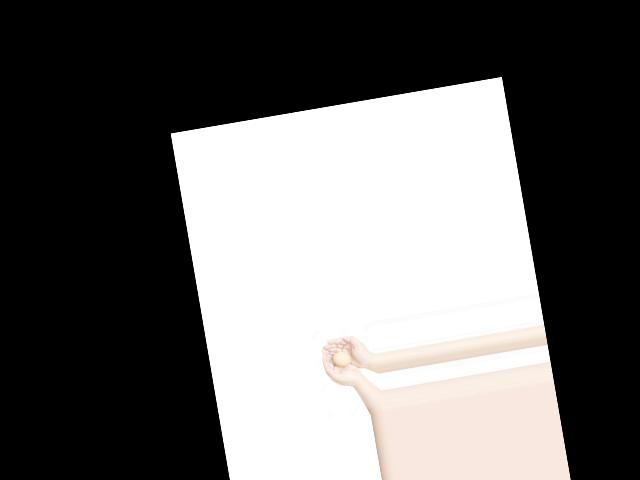egg: (332, 350, 352, 368)
